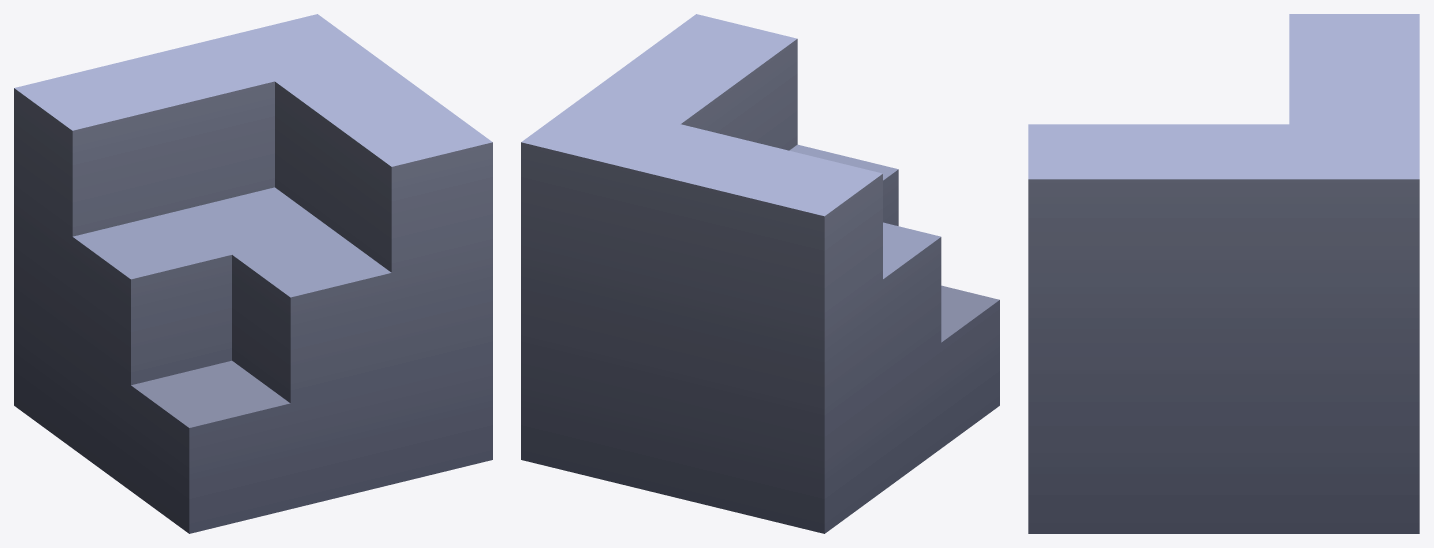
File: kenney-space-station-stairs-small-corner-inner.glb
3 renders of one model, left to right at view 1: azimuth 30°, elevation 25°; view 2: azimuth 150°, elevation 25°; view 3: azimuth 270°, elevation 25°, orthographic. The views are drawn at different scales.
Visible parts, largest first — view 1: stairs-small-corner-inner; view 2: stairs-small-corner-inner; view 3: stairs-small-corner-inner.
Boxes of the visible parts, bbox=[...] form: stairs-small-corner-inner: bbox=[14, 14, 492, 533]; stairs-small-corner-inner: bbox=[521, 14, 999, 533]; stairs-small-corner-inner: bbox=[1028, 14, 1419, 533].
Bounding box in the file's own units: 0.3 × 0.3 × 0.3.
1 material, 1 textured.
